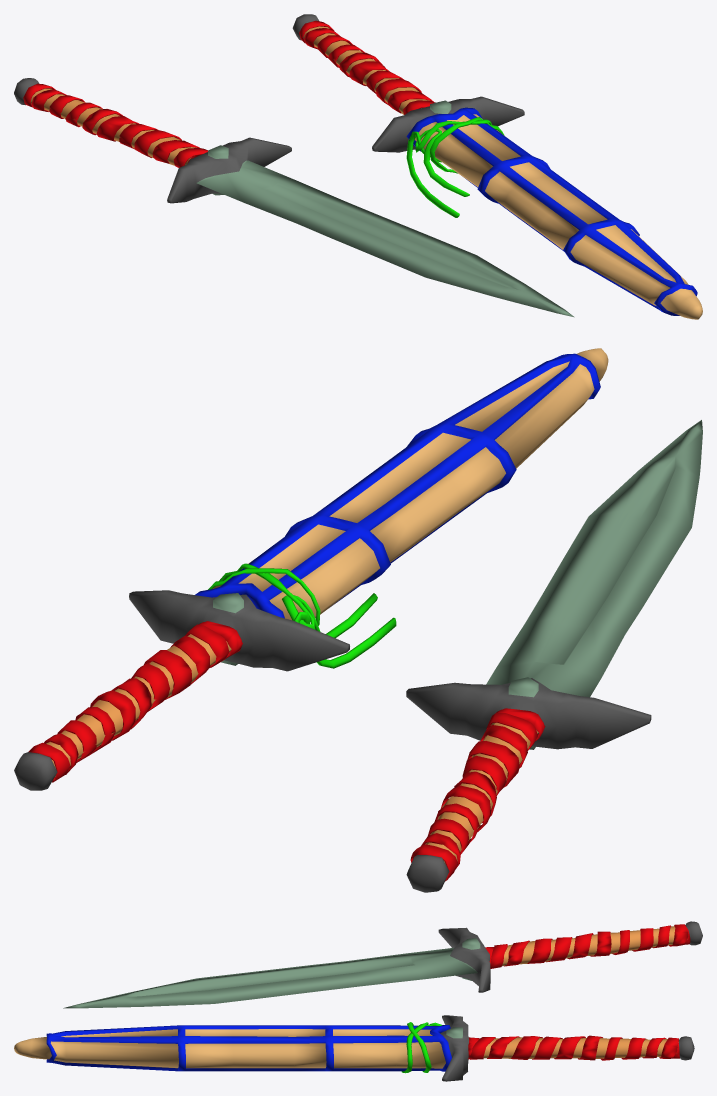
The model's file is dagger.fbx.
3 renders of one model, top to bottom at view 1: azimuth 30°, elevation 25°; view 2: azimuth 150°, elevation 25°; view 3: azimuth 270°, elevation 25°, orthographic. The views are drawn at different scales.
Parts seen in each view (by area): view 1: dagger_low.002, sheath_low.001, dagger_low.001; view 2: dagger_low.002, sheath_low.001, dagger_low.001; view 3: sheath_low.001, dagger_low.002, dagger_low.001.
Boxes of the visible parts, x1,y1,x2,y2 form: dagger_low.002: [14, 78, 574, 317]; sheath_low.001: [406, 107, 702, 319]; dagger_low.001: [292, 14, 524, 152]; dagger_low.002: [406, 420, 702, 892]; sheath_low.001: [195, 348, 608, 668]; dagger_low.001: [14, 590, 349, 790]; sheath_low.001: [14, 1022, 451, 1073]; dagger_low.002: [63, 921, 702, 1008]; dagger_low.001: [440, 1015, 694, 1081].
Bounding box in the file's own units: 2119 × 334 × 4069.
